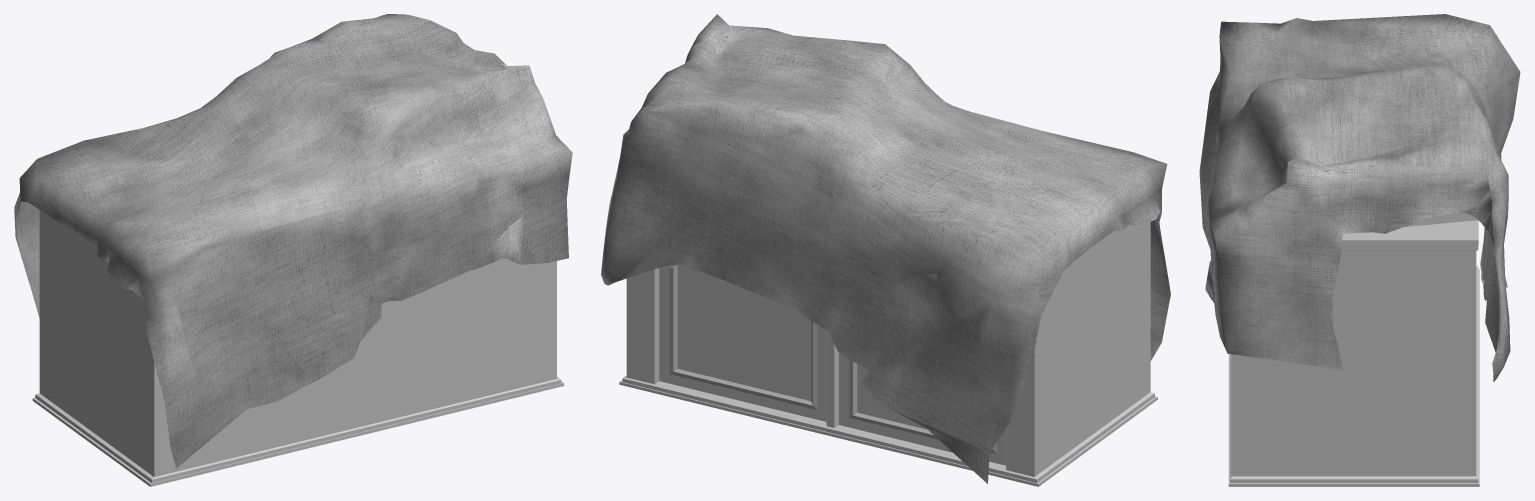
File: DAMAGED GOODS 10.fbx
The picture shows the model from 3 angles, left to right: view 1: azimuth 30°, elevation 25°; view 2: azimuth 150°, elevation 25°; view 3: azimuth 270°, elevation 25°; orthographic projection. The views are drawn at different scales.
Parts seen in each view (by area): view 1: DAMAGED GOODS 10; view 2: DAMAGED GOODS 10; view 3: DAMAGED GOODS 10.
Boxes of the visible parts, x1,y1,x2,y2 form: DAMAGED GOODS 10: [14, 14, 572, 486]; DAMAGED GOODS 10: [601, 14, 1170, 486]; DAMAGED GOODS 10: [1199, 14, 1520, 486].
Bounding box in the file's own units: 1.44 × 0.9502 × 0.8548.
